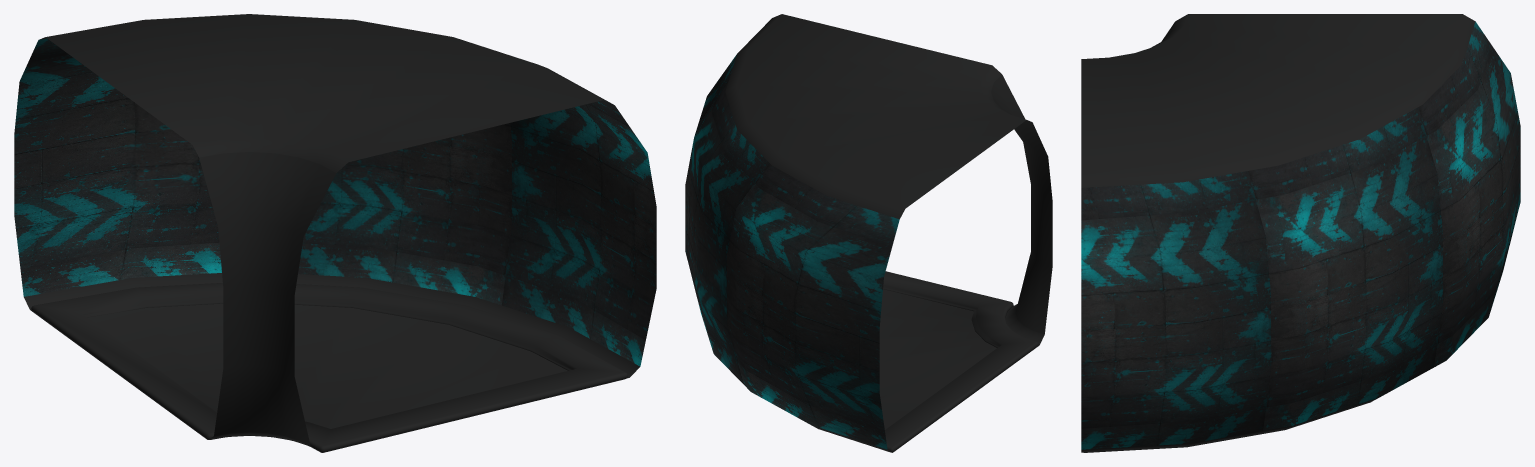
The model's file is corridor_bend.fbx.
3 renders of one model, left to right at view 1: azimuth 30°, elevation 25°; view 2: azimuth 150°, elevation 25°; view 3: azimuth 270°, elevation 25°, orthographic. The views are drawn at different scales.
Visible parts, largest first — view 1: corridor_bend; view 2: corridor_bend; view 3: corridor_bend.
Part boxes in pixels (bbox=[...]): corridor_bend: bbox=[14, 14, 656, 452]; corridor_bend: bbox=[685, 14, 1052, 452]; corridor_bend: bbox=[1081, 14, 1520, 452].
Size of the model in its own units: 450 by 302 by 450.
